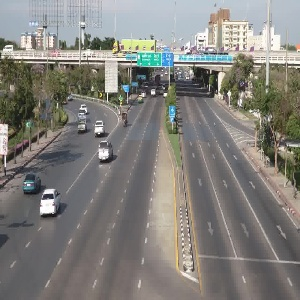car: (36, 186, 61, 220), (19, 172, 45, 196)
truck: (91, 137, 128, 162), (72, 113, 94, 134), (90, 117, 106, 138)
